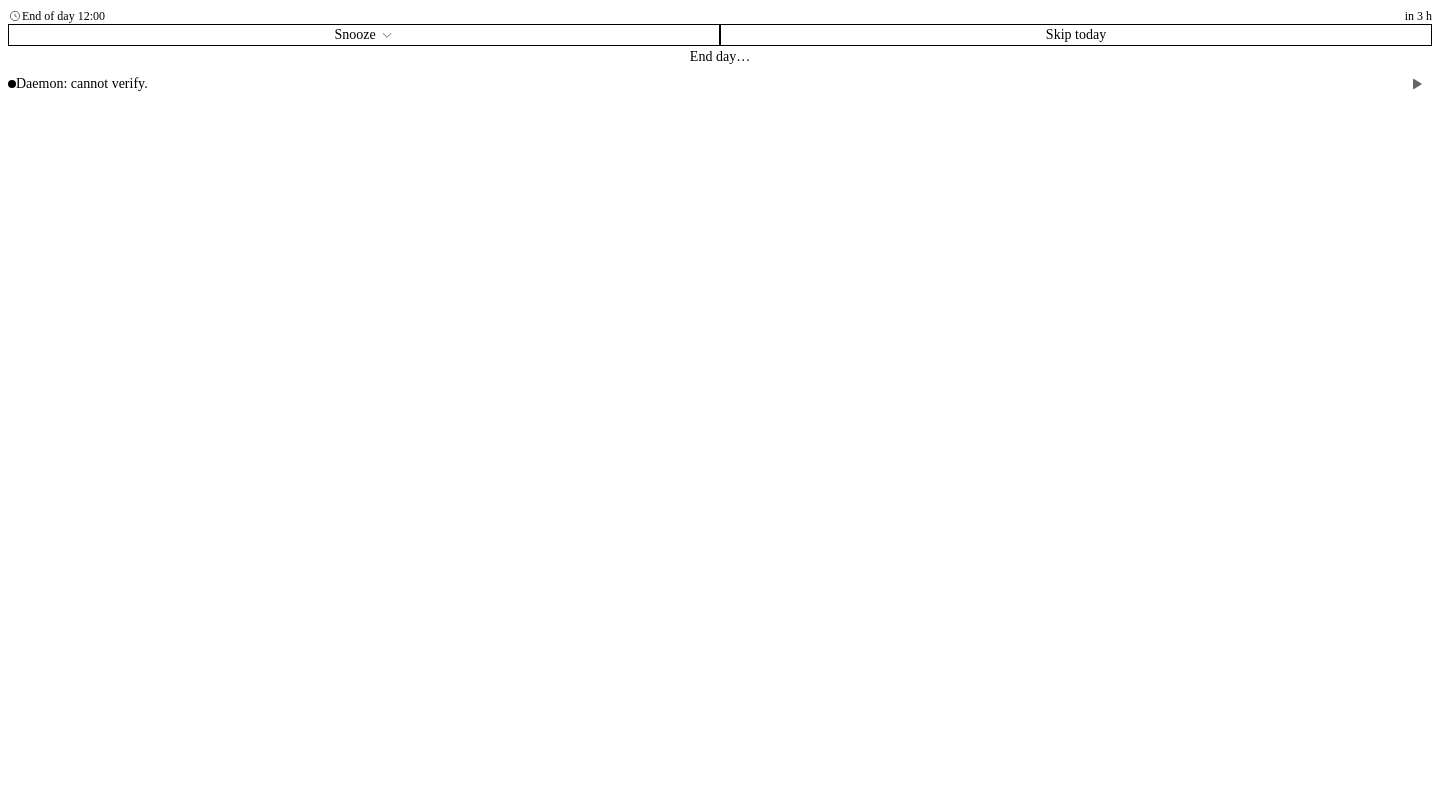
Scenario: SidebarFooter (D-052, V2-T75/V2-T69) › Undo snooze item (V2-T50) › is absent when there is nothing to undo
Click the button "Snooze" at (364, 35), box [8, 24, 720, 46]
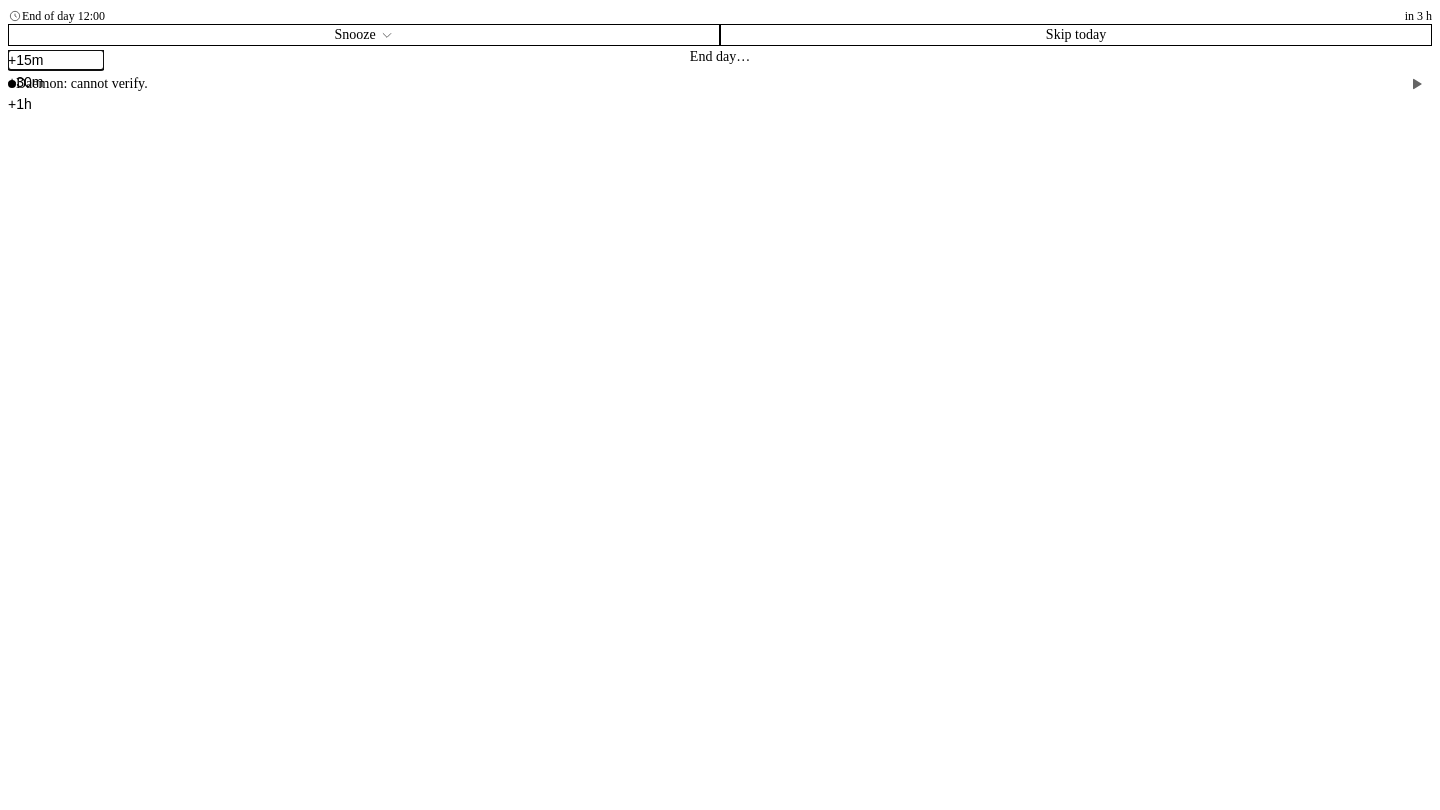
Result: the menu item "+15m" is shown at [8, 50, 104, 70]
